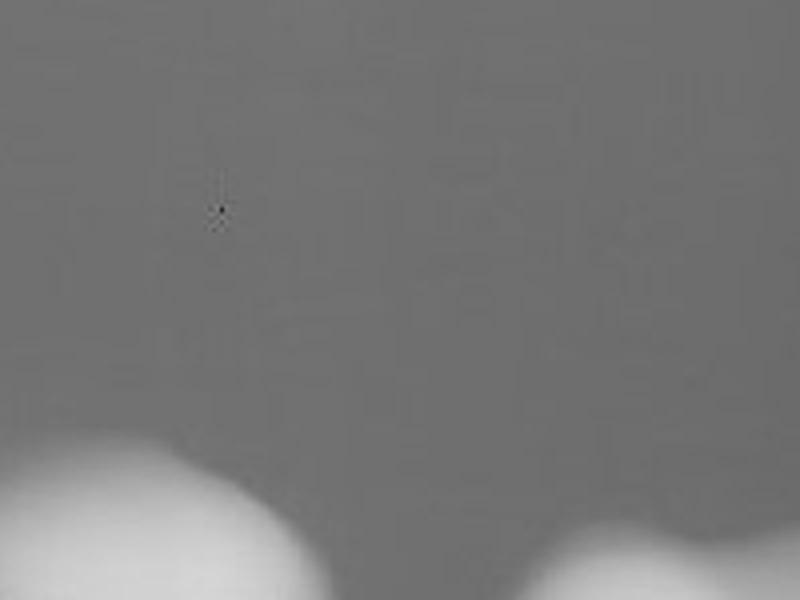defect: (213, 202, 230, 218)
